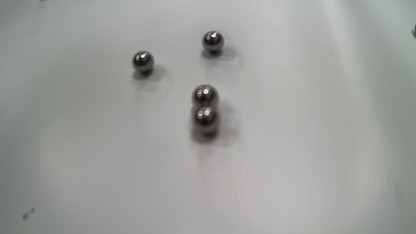ironball: (193, 105, 219, 134), (192, 84, 219, 107), (132, 50, 154, 73), (202, 31, 224, 52), (413, 24, 416, 38)
